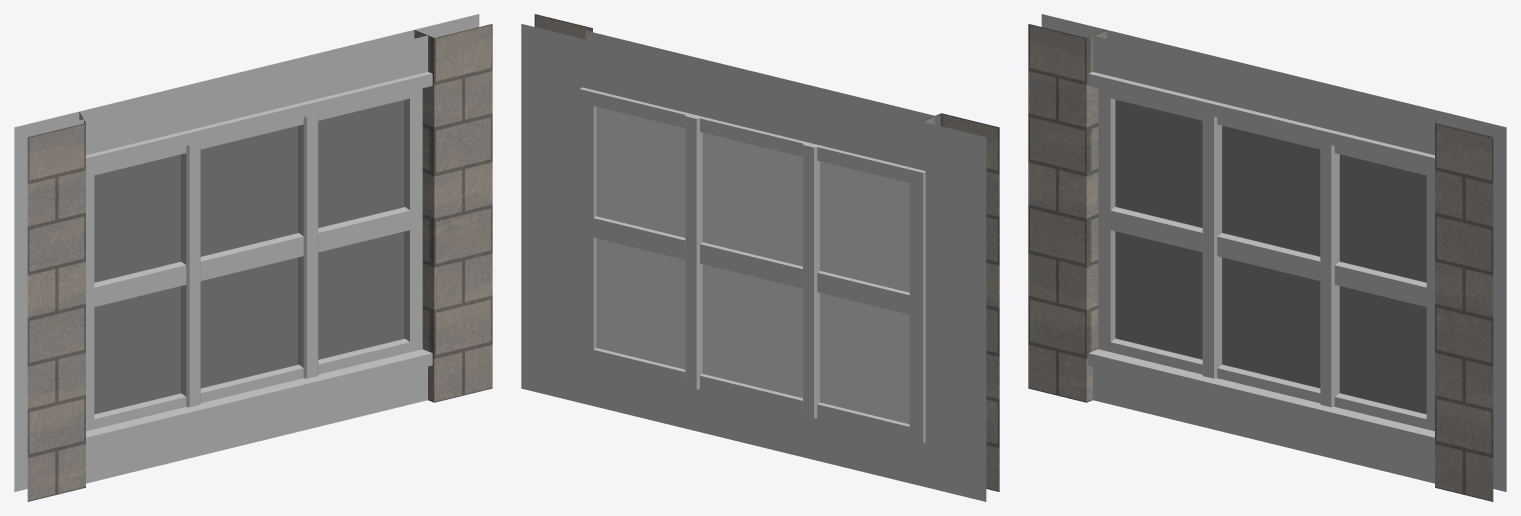
The model's file is WhiteBrick_Window.gltf.
The picture shows the model from 3 angles, left to right: view 1: azimuth 30°, elevation 25°; view 2: azimuth 150°, elevation 25°; view 3: azimuth 330°, elevation 25°; orthographic projection.
Visible parts, largest first — view 1: WhiteBrick_Window; view 2: WhiteBrick_Window; view 3: WhiteBrick_Window.
Boxes of the visible parts, bbox=[...] form: WhiteBrick_Window: bbox=[14, 14, 492, 501]; WhiteBrick_Window: bbox=[521, 14, 999, 501]; WhiteBrick_Window: bbox=[1028, 14, 1506, 501].
Size of what is drawn, in the model's own units: 4 by 3 by 0.2562.
